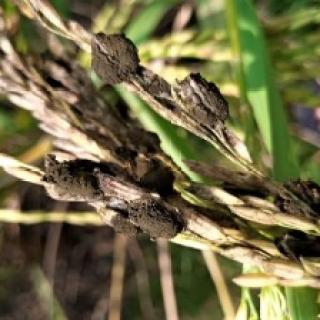Gosong-Palsu: (91, 34, 239, 150), (191, 161, 319, 231), (91, 33, 169, 99), (44, 154, 101, 200), (127, 200, 183, 237), (276, 230, 319, 259)
